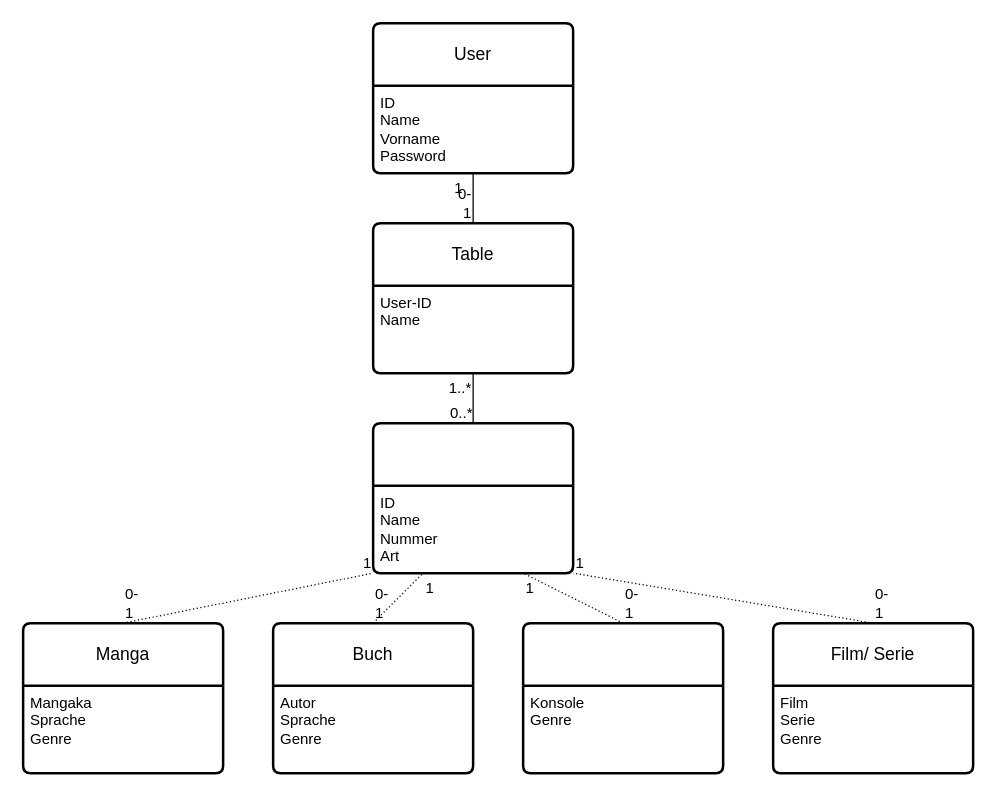
Image size: 995x795. Some labels were removed from this diagram. The shapes that lost their labels are listed below. From the top down, each one's box as (x1, y1, x2, y2) in pixels, then its label:
(371, 421, 574, 574): Produkte
(521, 621, 724, 774): Spiel
